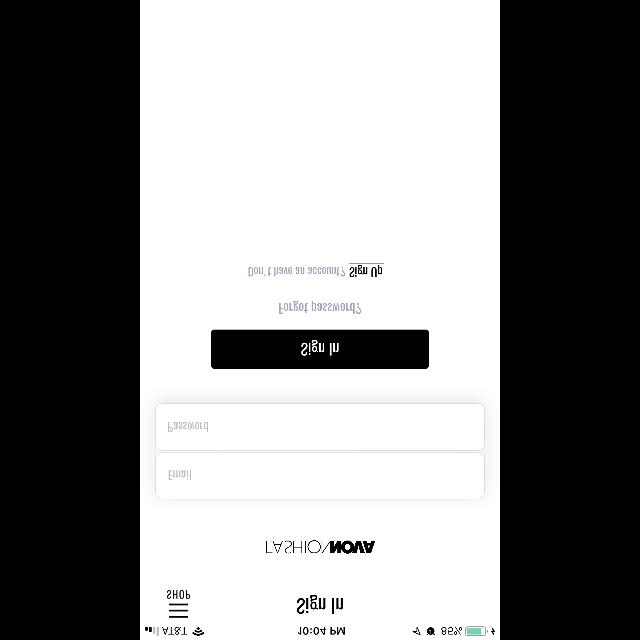icon: (170, 603, 188, 617)
image: (267, 540, 375, 554)
input: (156, 452, 484, 500), (156, 404, 484, 451)
text: (279, 300, 361, 314), (297, 594, 343, 614), (249, 268, 345, 276), (350, 263, 384, 277), (168, 422, 208, 432), (168, 470, 192, 480), (168, 590, 190, 598)
textbutton: (212, 329, 428, 368)
uppertaskbar: (140, 626, 500, 640)
